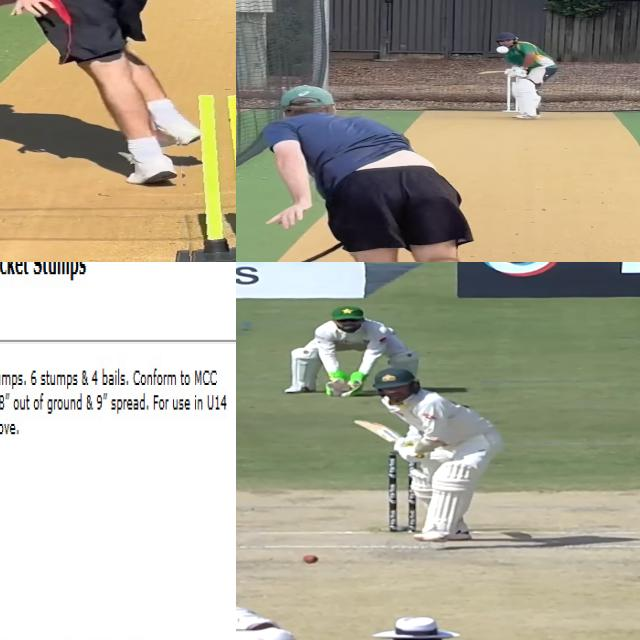Cricket ball: (302, 554, 320, 564), (494, 45, 510, 55)
Stumps: (173, 95, 236, 262)
